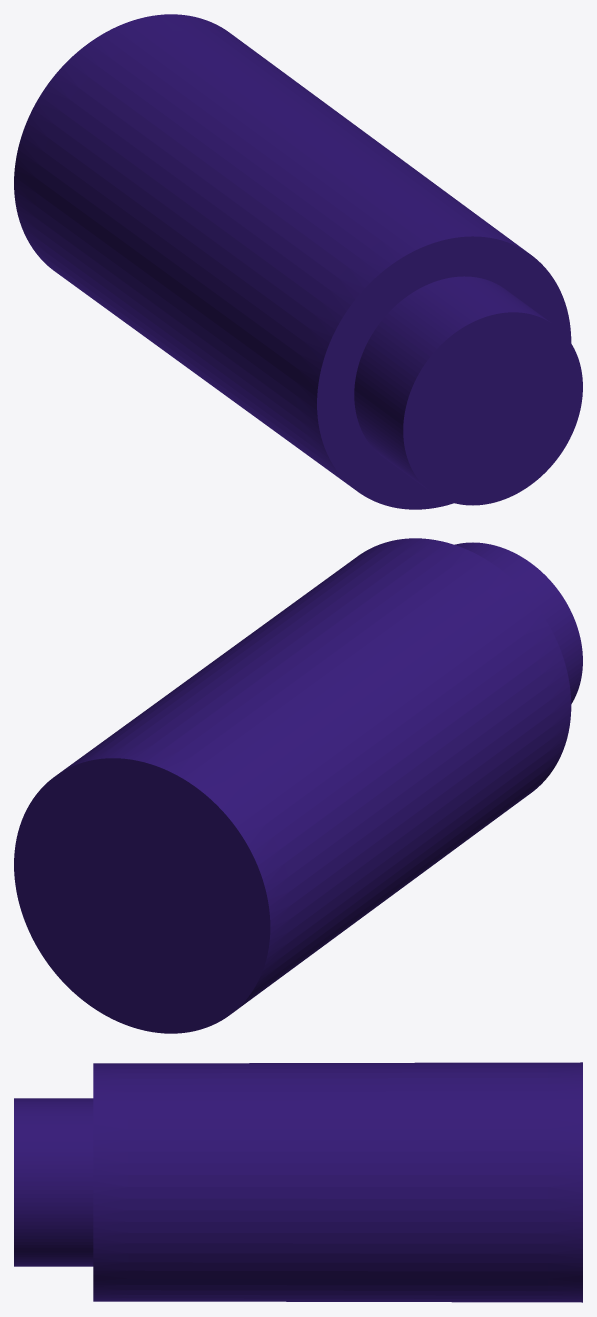
The picture shows the model from 3 angles, top to bottom: view 1: azimuth 30°, elevation 25°; view 2: azimuth 150°, elevation 25°; view 3: azimuth 270°, elevation 25°; orthographic projection. The views are drawn at different scales.
Parts seen in each view (by area): view 1: node; view 2: node; view 3: node.
Part boxes in pixels (left/top/right/bottom): node: left=14, top=14, right=582, bottom=509; node: left=14, top=538, right=582, bottom=1033; node: left=14, top=1062, right=582, bottom=1302.
Bounding box in the file's own units: 0.0735 × 0.0735 × 0.1743.
